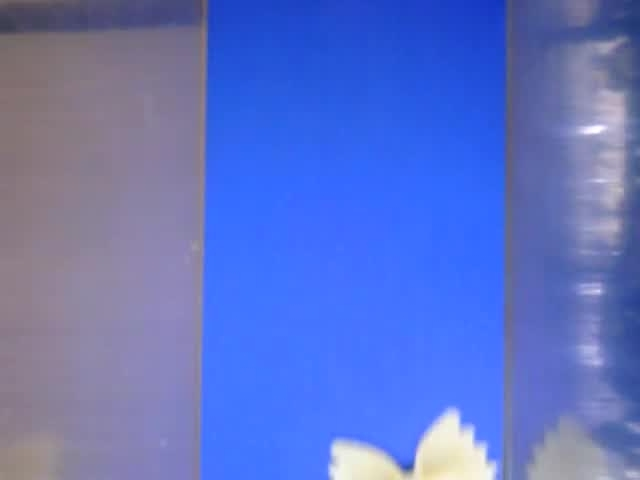farfalle: (327, 406, 498, 480)
